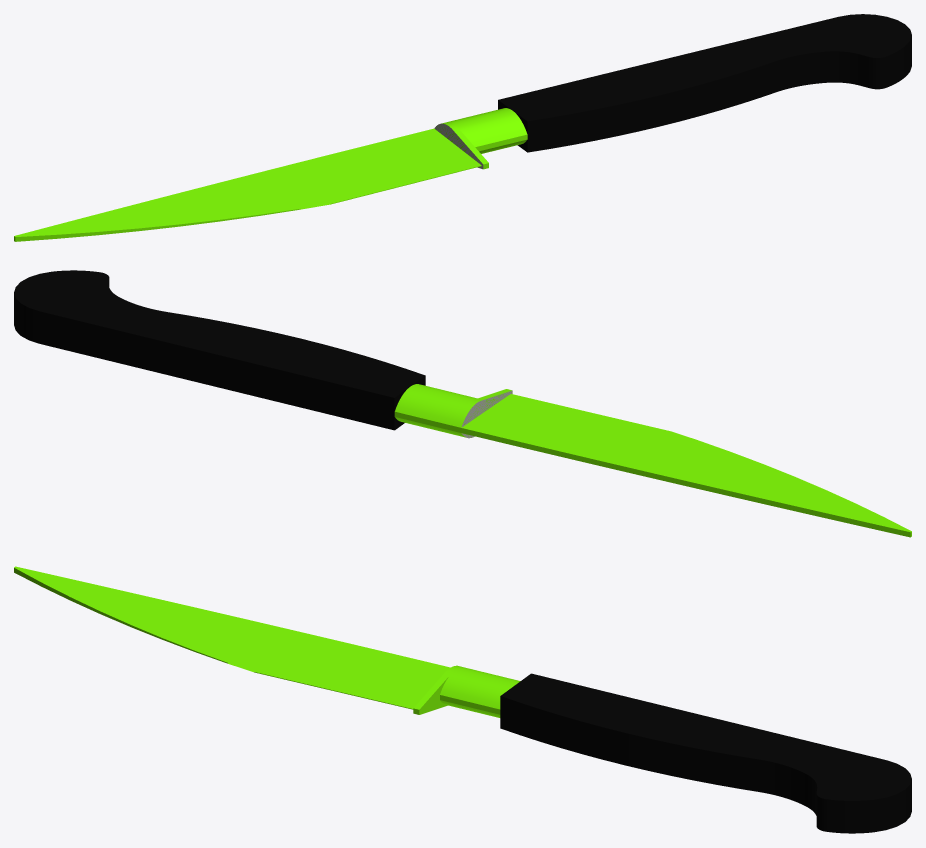
Rendered from knife_07_origin_gt_2.dae.
3 views of the same model, one above another, from view 1: azimuth 30°, elevation 25°; view 2: azimuth 150°, elevation 25°; view 3: azimuth 330°, elevation 25° (orthographic). The views are drawn at different scales.
Visible parts, largest first — view 1: group_4, Difference (×2), group_1, group_2; view 2: group_4, Difference (×2), group_1, group_2; view 3: group_4, Difference (×2), group_1, group_2, group_3.
Part boxes in pixels (<box>): group_4: <box>498,14,911,136</box>; Difference (×2): <box>14,128,481,241</box>; group_1: <box>517,51,911,152</box>; group_2: <box>441,108,527,166</box>; group_4: <box>14,270,425,413</box>; Difference (×2): <box>461,394,911,537</box>; group_1: <box>14,309,404,430</box>; group_2: <box>394,384,511,430</box>; group_4: <box>500,673,911,817</box>; Difference (×2): <box>14,566,450,709</box>; group_1: <box>500,712,911,833</box>; group_2: <box>413,665,520,712</box>; group_3: <box>413,697,500,717</box>.
Bounding box in the file's own units: 8.07 × 0.849 × 0.2756.
